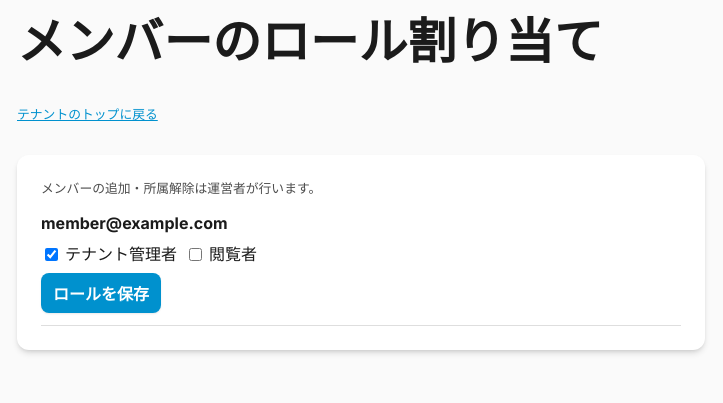
Test case: tenant members page › 参照権限のみで保存した場合は権限がないことを表示する
Step 1. Click the button with aria-label "member@example.com のロールを保存" → x=101, y=293, box [41, 273, 161, 313]
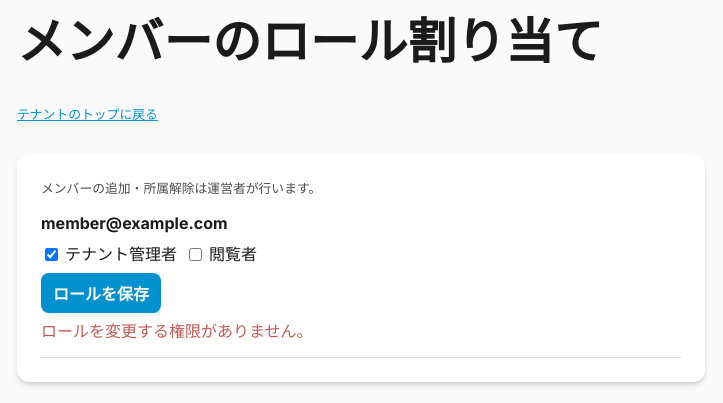
Check: the message shows "権限がありません", box [41, 321, 312, 341]
